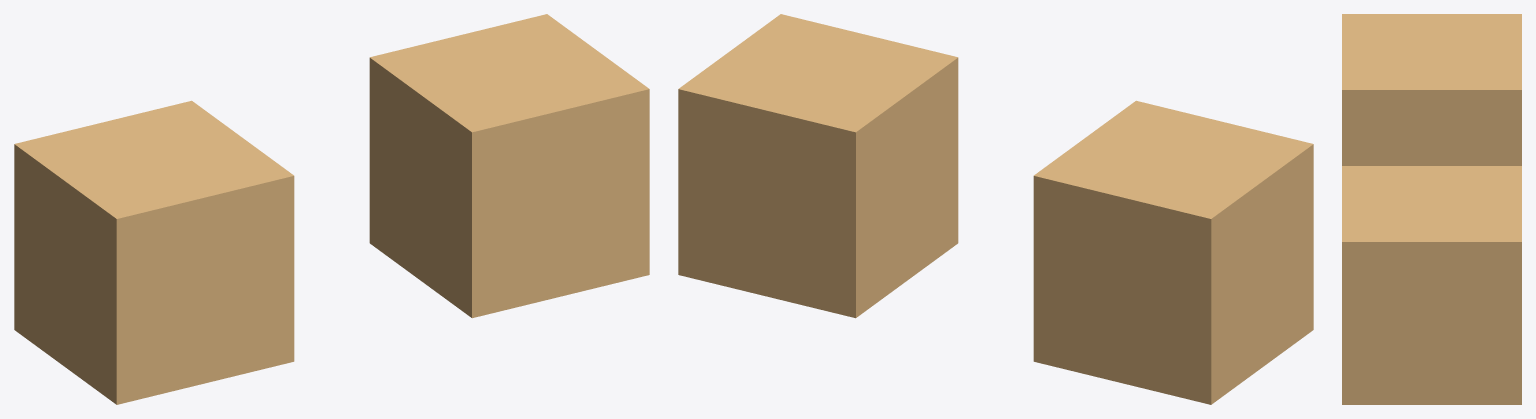
The model's file is KeyframeCube.gltf.
3 views of the same model, side by side, from view 1: azimuth 30°, elevation 25°; view 2: azimuth 150°, elevation 25°; view 3: azimuth 270°, elevation 25° (orthographic). The views are drawn at different scales.
Visible parts, largest first — view 1: OrbitingCube, PulsingCube; view 2: OrbitingCube, PulsingCube; view 3: OrbitingCube, PulsingCube.
Part boxes in pixels (bbox=[...]): OrbitingCube: bbox=[369, 14, 649, 318]; PulsingCube: bbox=[14, 100, 294, 404]; OrbitingCube: bbox=[678, 14, 958, 318]; PulsingCube: bbox=[1033, 100, 1313, 404]; OrbitingCube: bbox=[1342, 166, 1521, 404]; PulsingCube: bbox=[1342, 14, 1521, 165].
Bounding box in the file's own units: 3 × 1 × 1.
